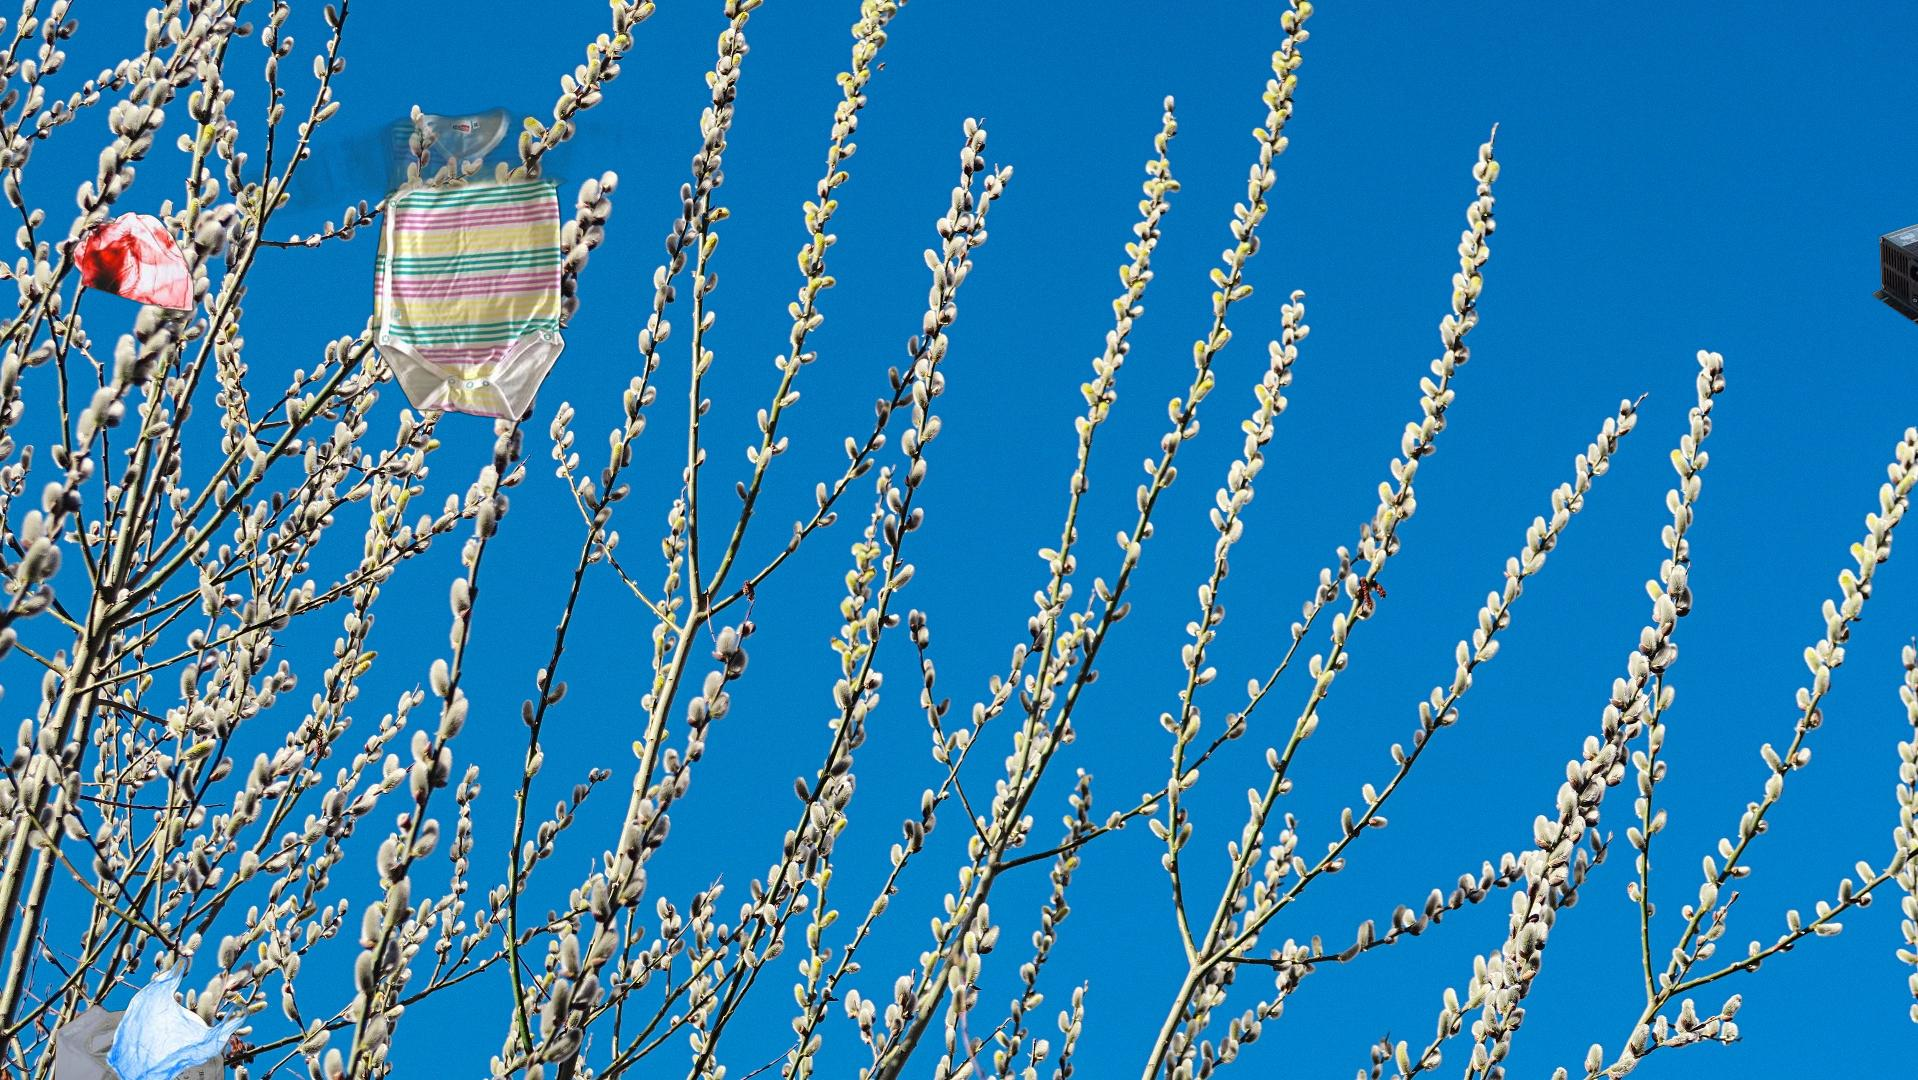battery: (1871, 165, 1918, 331)
clothes: (227, 104, 744, 425)
plastic-bag: (51, 955, 253, 1080), (70, 208, 195, 313)
